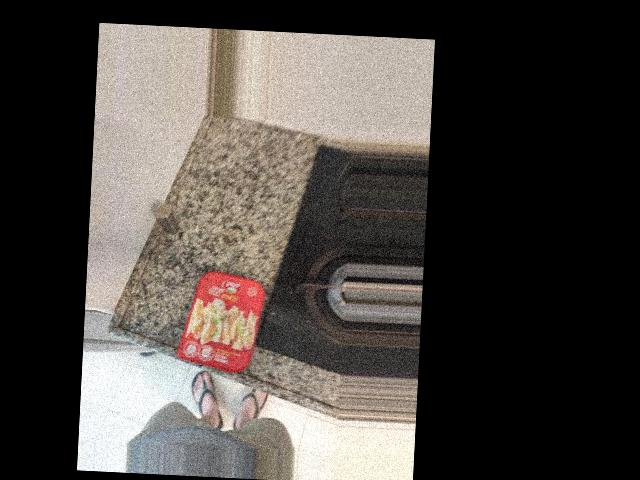cheese: (179, 176, 271, 290)
